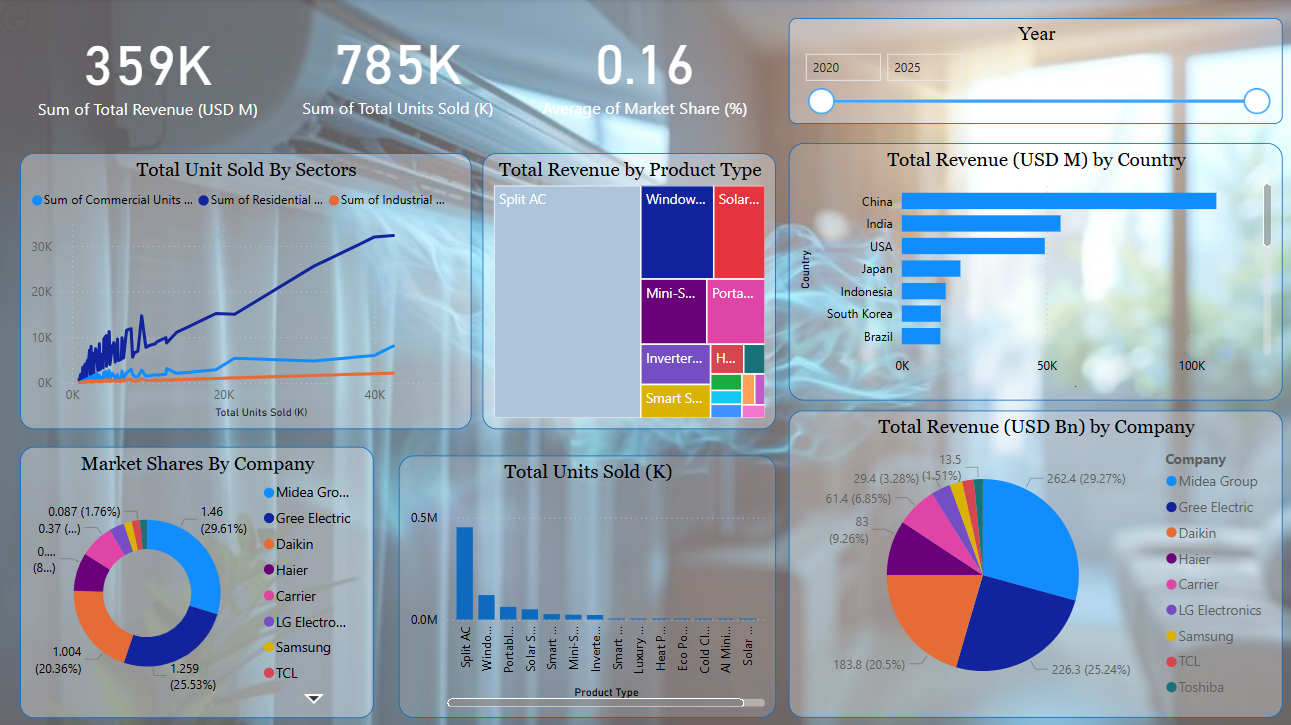

The dashboard page shown, as its layout file describes it:
{"tool":"powerbi","page":{"name":"Page 1","canvas":[1280,720],"ordinal":0},"visuals":[{"type":"barChart","title":"Total Revenue (USD M) by Country","fields":{"Category":["Sheet1.Country"],"Y":["Sum(Sheet1.Total Revenue (USD M))"]},"box":[717.7,142.7,532.4,237.4],"z":0},{"type":"card","fields":{"Values":["Sum(Sheet1.Total Revenue (USD M))"]},"box":[37,2.7,251.1,140],"z":1000},{"type":"actionButton","box":[0,0,100,40],"z":2000},{"type":"slicer","title":"Year","fields":{"Values":["Sheet1.Year"]},"box":[716.3,20.6,533.8,104.3],"z":3000},{"type":"donutChart","title":"Sum of Unit Sold By Sectors","fields":{"Y":["Sum(Sheet1.Industrial Units Sold (K))","Sum(Sheet1.Residential Units Sold (K))","Sum(Sheet1.Commercial Units Sold (K))"]},"box":[49.4,450.1,628.5,259.3],"z":4000},{"type":"pieChart","fields":{"Category":["Sheet1 (3).Company"],"Y":["Sum(Sheet1 (3).Revenue (USD Bn))"]},"box":[717.7,407.5,533.8,301.9],"z":5000},{"type":"card","fields":{"Values":["Sum(Sheet1.Total Units Sold (K))"]},"box":[299.1,8.2,256.6,129],"z":6000},{"type":"columnChart","fields":{"Category":["Sheet1.Product Type"],"Y":["Sum(Sheet1.Total Units Sold (K))"]},"box":[49.4,179.8,628.5,241.5],"z":7000}]}

Visuals, with their boxes in screenshot pixels (x1, y1, x2, y2), scaled from the page's 1280x720 canvas onto the 1291x725 screenshot:
"Total Revenue (USD M) by Country" barChart: l=724, t=144, r=1261, b=383
card - Sum(Sheet1.Total Revenue (USD M)): l=37, t=3, r=291, b=144
actionButton: l=0, t=0, r=101, b=40
"Year" slicer: l=722, t=21, r=1261, b=126
"Sum of Unit Sold By Sectors" donutChart: l=50, t=453, r=684, b=714
pieChart - Sheet1 (3).Company x Sum(Sheet1 (3).Revenue (USD Bn)): l=724, t=410, r=1262, b=714
card - Sum(Sheet1.Total Units Sold (K)): l=302, t=8, r=560, b=138
columnChart - Sheet1.Product Type x Sum(Sheet1.Total Units Sold (K)): l=50, t=181, r=684, b=424
